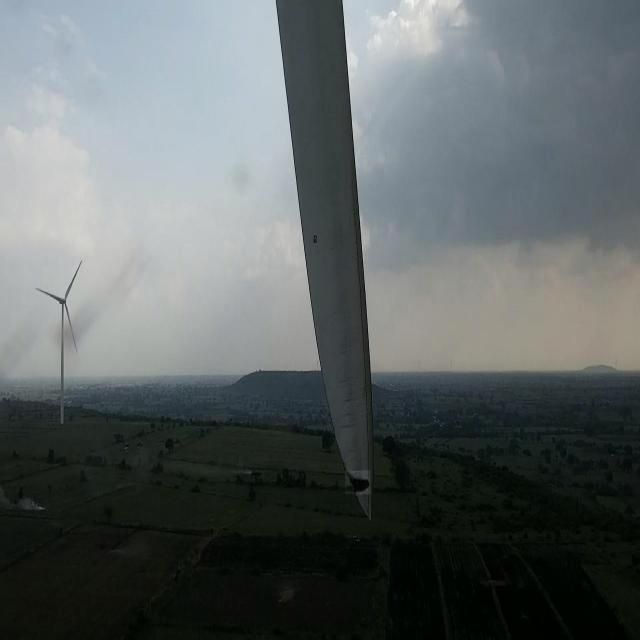Pin_Hole: (308, 232, 321, 246)
oil_leakage: (345, 471, 370, 494)
